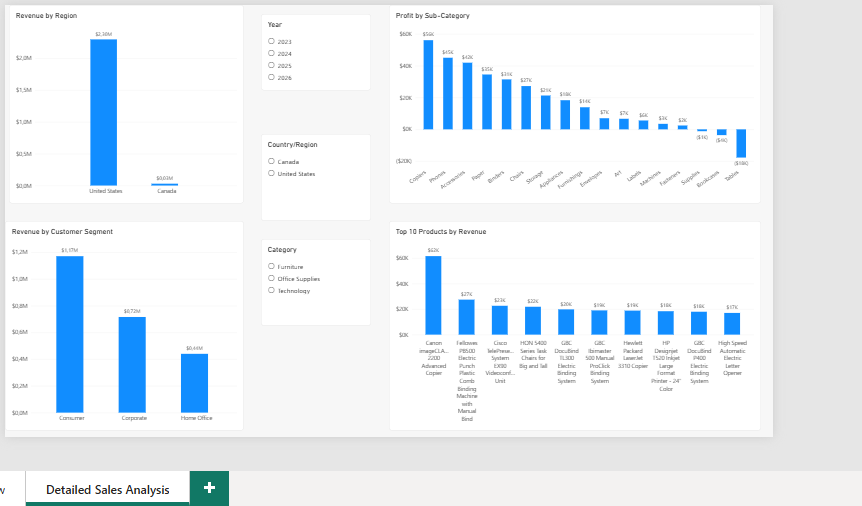

The dashboard page shown, as its layout file describes it:
{"tool":"powerbi","page":{"name":"Detailed Sales Analysis","canvas":[1920,1080],"ordinal":1},"visuals":[{"type":"clusteredColumnChart","title":"Revenue by Region","fields":{"Category":["sales_cleaned.Country/Region"],"Y":["sales_cleaned.Total Revenue"]},"box":[10.1,0,587.1,496.4],"z":0},{"type":"clusteredColumnChart","title":"Profit by Sub-Category","fields":{"Category":["sales_cleaned.Sub-Category"],"Y":["sales_cleaned.Total Profit"]},"box":[960,0,929.8,496.4],"z":1000},{"type":"clusteredColumnChart","title":"Revenue by Customer Segment","fields":{"Category":["sales_cleaned.Segment"],"Y":["sales_cleaned.Total Revenue"]},"box":[0,539.2,597.2,524.1],"z":2000},{"type":"clusteredColumnChart","title":"Top 10 Products by Revenue","fields":{"Category":["sales_cleaned.Product Name"],"Y":["sales_cleaned.Total Revenue"]},"box":[960,539.2,929.8,524.1],"z":3000},{"type":"listSlicer","fields":{"Values":["sales_cleaned.Year"]},"box":[640,22.7,274.6,191.5],"z":4000},{"type":"listSlicer","fields":{"Values":["sales_cleaned.Country/Region"]},"box":[640,322.5,274.6,216.7],"z":4001},{"type":"listSlicer","fields":{"Values":["sales_cleaned.Category"]},"box":[640,584.6,274.6,216.7],"z":4002}]}

Visuals, with their boxes on the page's 1920x1080 design canvas (x1, y1, x2, y2). These are canvas units, not pixel positions in the 862x506 screenshot, which may show the page scaled, cropped or inside an application window:
"Revenue by Region" clusteredColumnChart: (10,0,597,496)
"Profit by Sub-Category" clusteredColumnChart: (960,0,1890,496)
"Revenue by Customer Segment" clusteredColumnChart: (0,539,597,1063)
"Top 10 Products by Revenue" clusteredColumnChart: (960,539,1890,1063)
listSlicer - sales_cleaned.Year: (640,23,915,214)
listSlicer - sales_cleaned.Country/Region: (640,322,915,539)
listSlicer - sales_cleaned.Category: (640,585,915,801)
